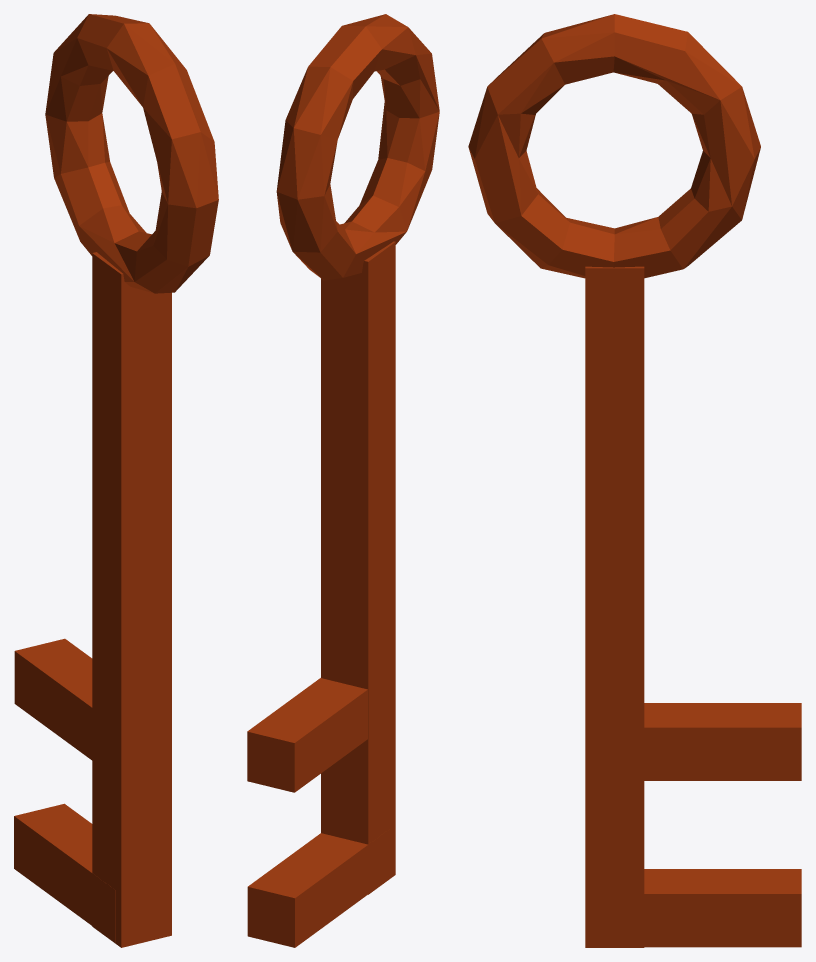
The model's file is low_poly_key.fbx.
3 views of the same model, side by side, from view 1: azimuth 30°, elevation 25°; view 2: azimuth 150°, elevation 25°; view 3: azimuth 270°, elevation 25° (orthographic). The views are drawn at different scales.
Visible parts, largest first — view 1: Torus; view 2: Torus; view 3: Torus.
Boxes of the visible parts, box(x1,y1,x2,y2) form: Torus: box(14, 14, 218, 947); Torus: box(247, 14, 439, 947); Torus: box(468, 14, 801, 947).
Size of the model in its own units: 50.47 by 861 by 283.
